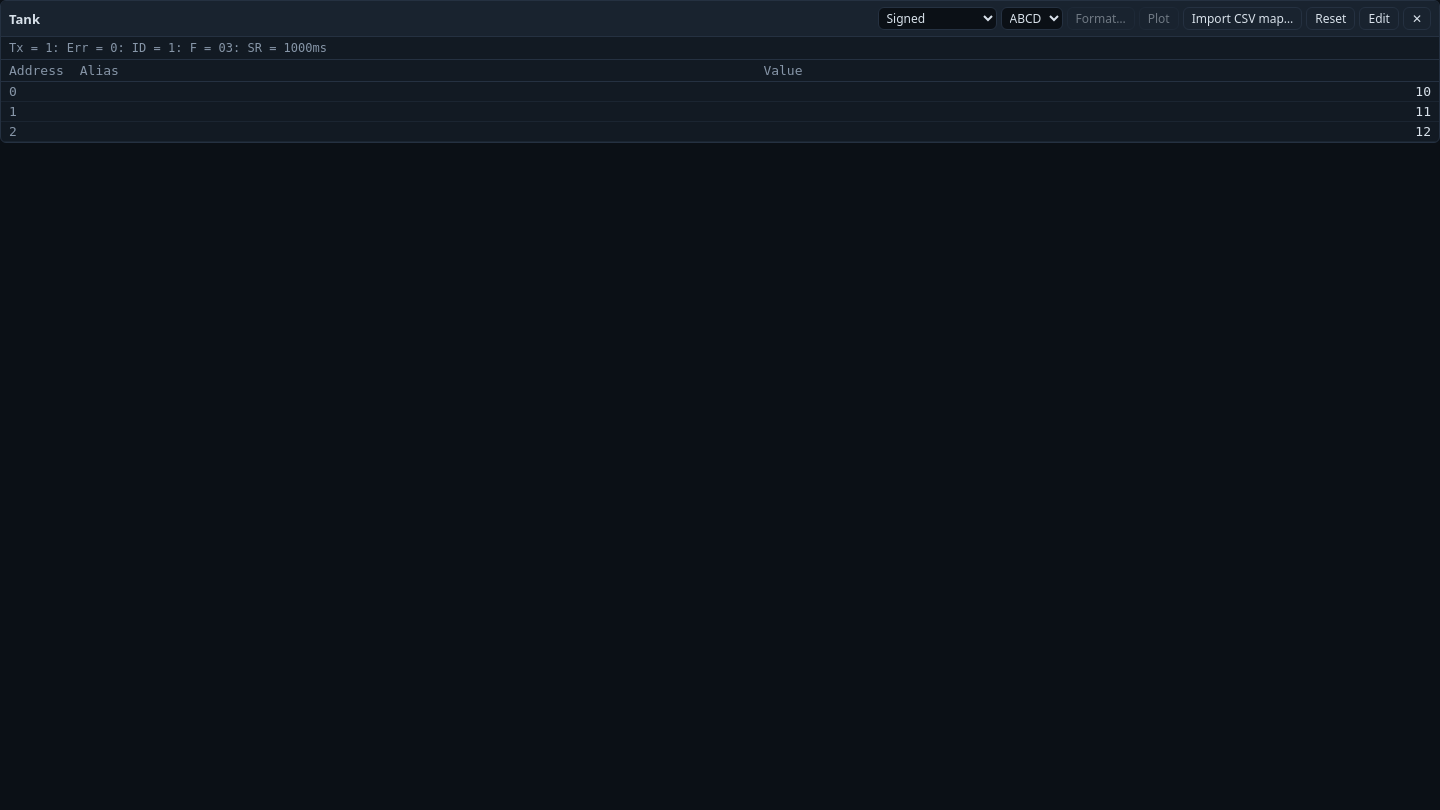
it: cell formats › formats a Shift+click range
Expected: the button "Format…" is disabled, [1066,7,1135,30]
Step 1. Click the text "0" → (36, 92), box [1,82,72,102]
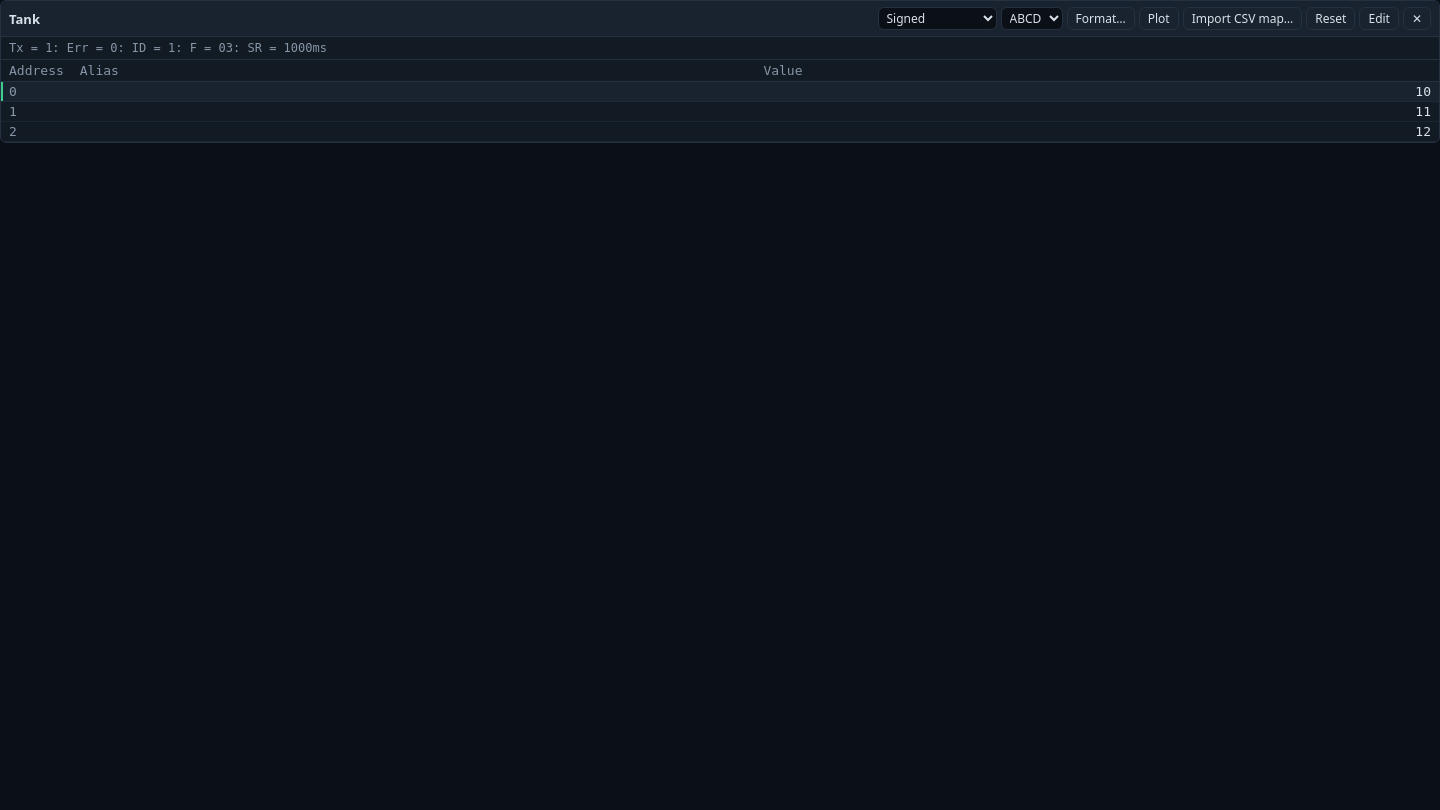
Step 2. Click the text "2" → (36, 132), box [1,122,72,142]
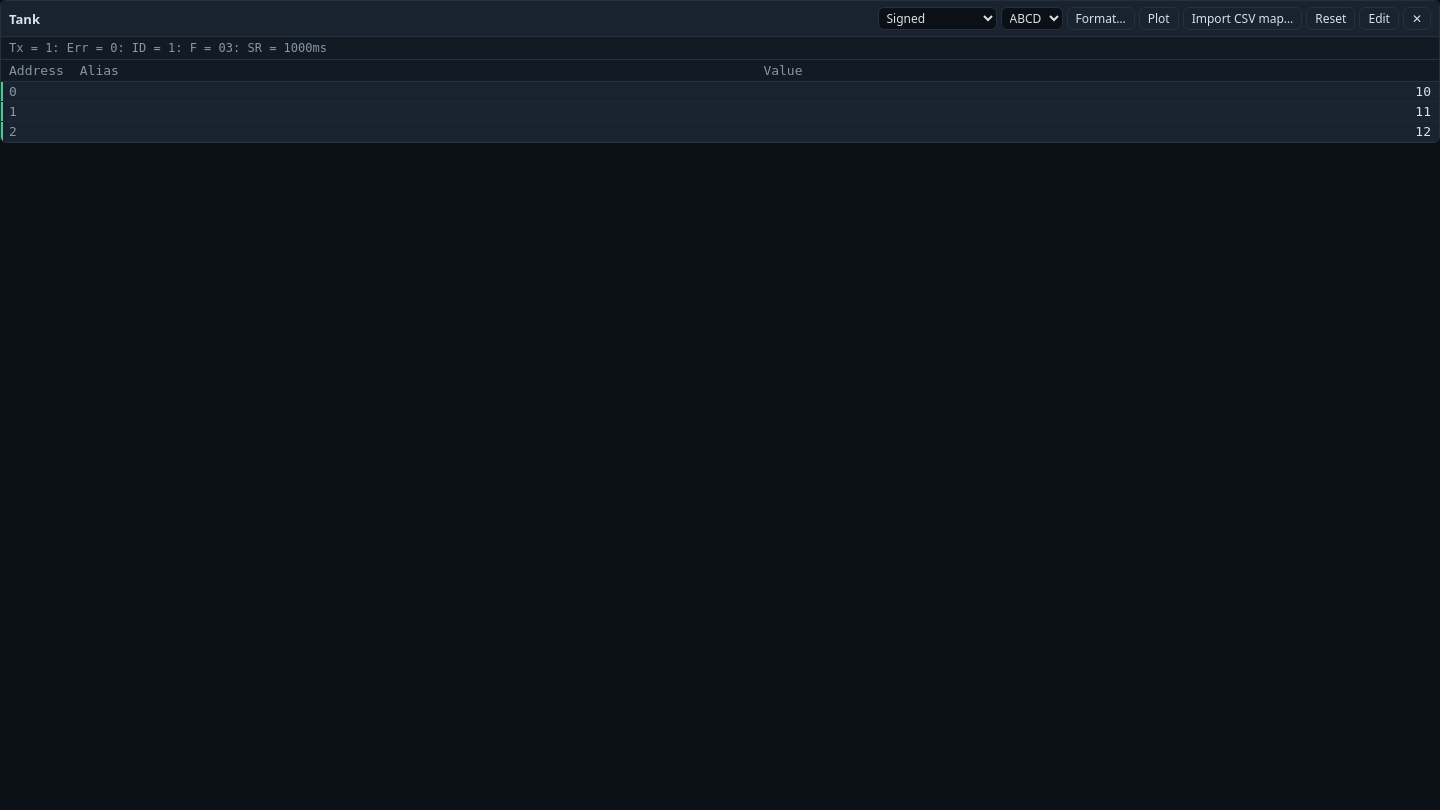
Step 3. Click the button "Format…" → (1101, 18), box [1066,7,1135,30]
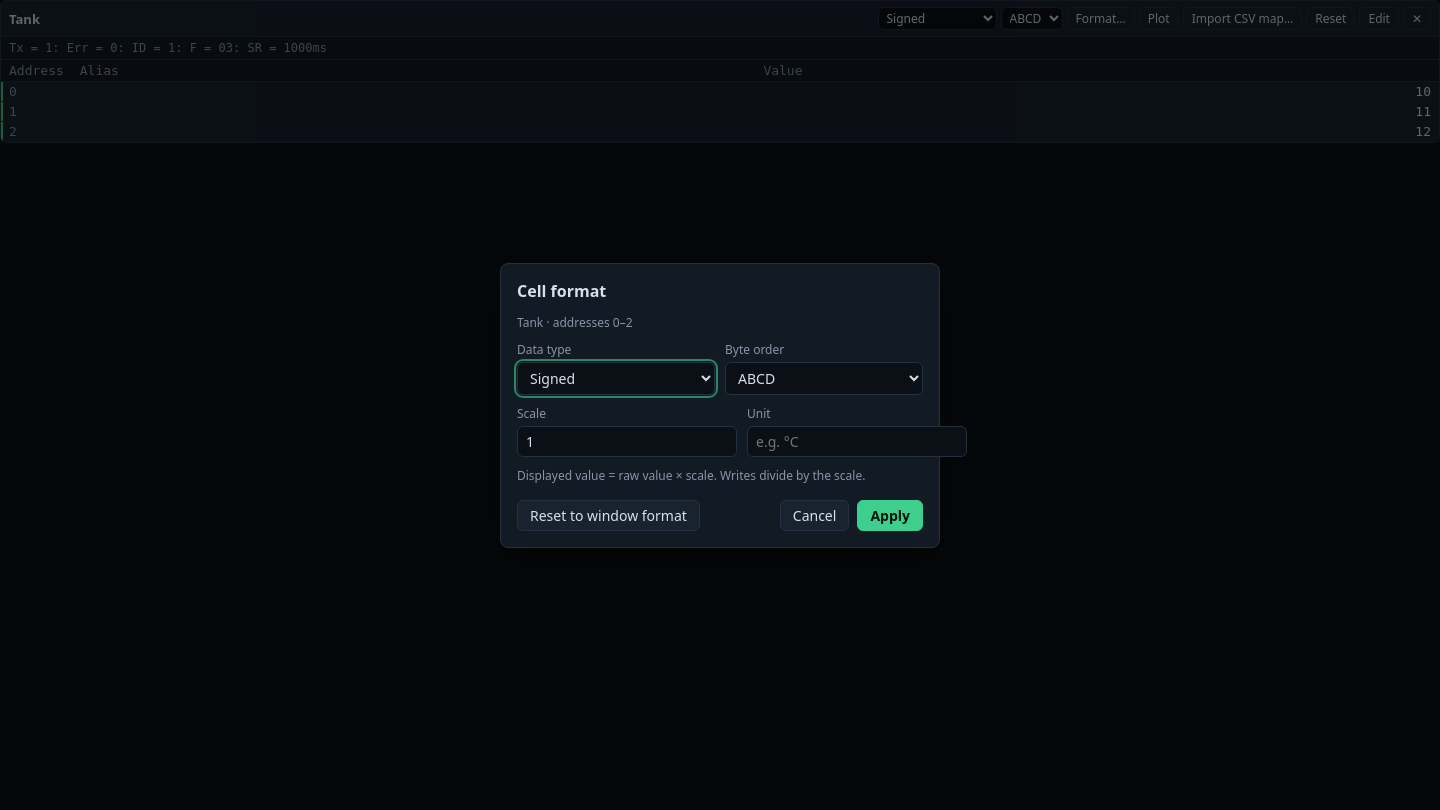
Now the text "Tank · addresses 0–2" is shown, box [517,314,633,330]
Step 4. Select "32-bit float" in the dropdown labelled "Data type" → (616, 378), box [517,362,715,394]
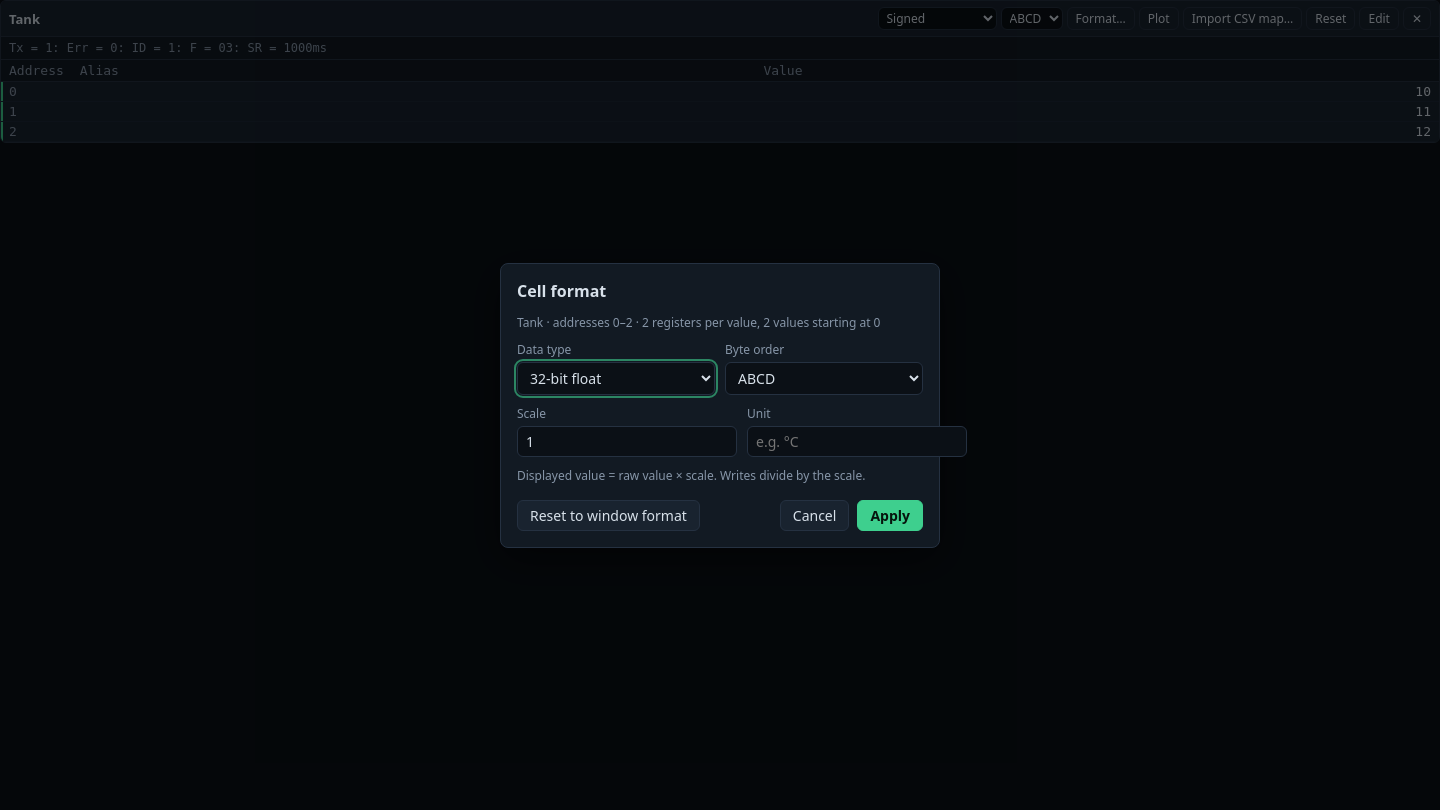
Now the text "2 registers per value, 2 values starting at 0" is shown, box [633,314,880,330]
Step 5. Type " bar " into the field labelled "Unit" → (857, 441), box [747,426,967,456]
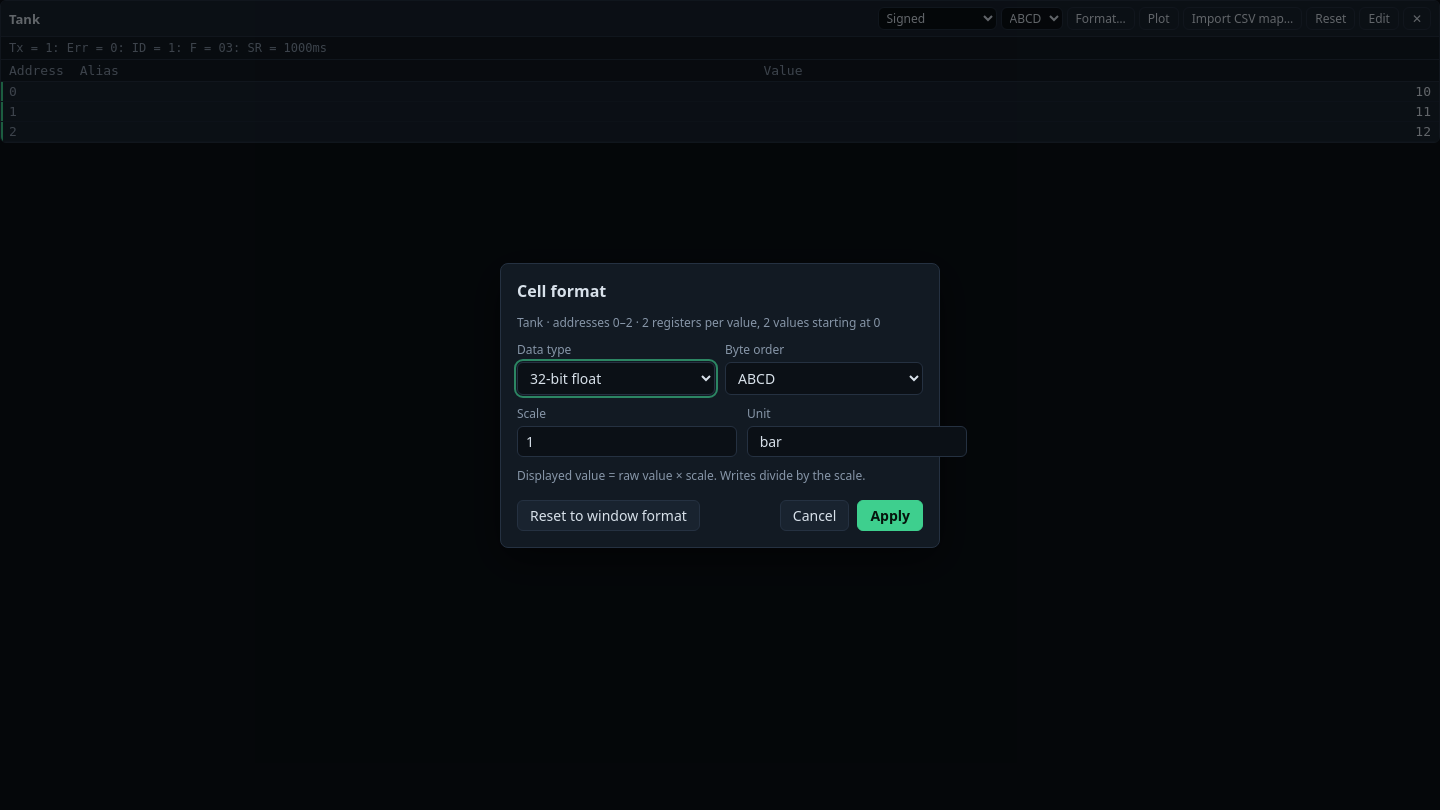
Step 6. Click the button "Apply" → (890, 515), box [857,500,923,530]
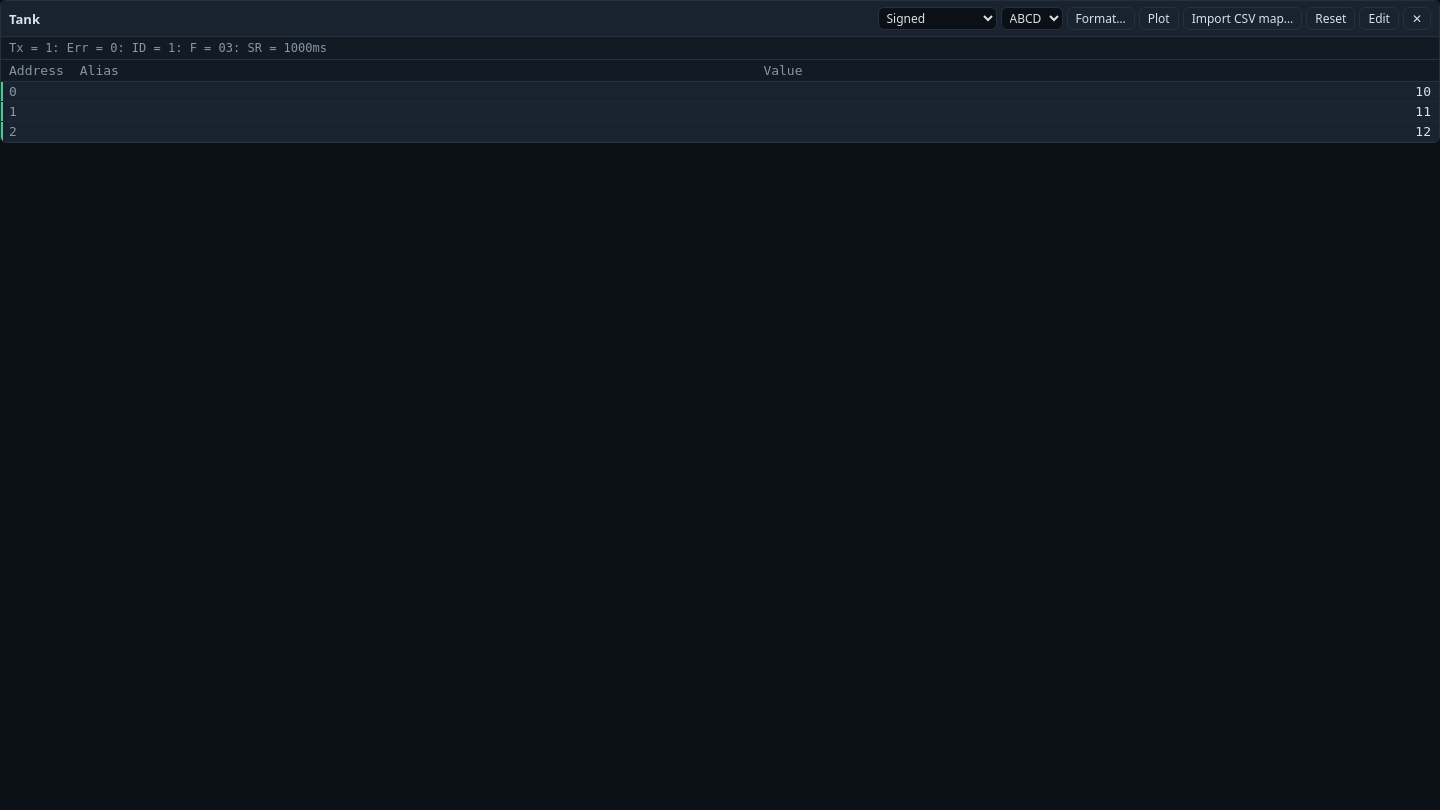
Now the dialog is gone
